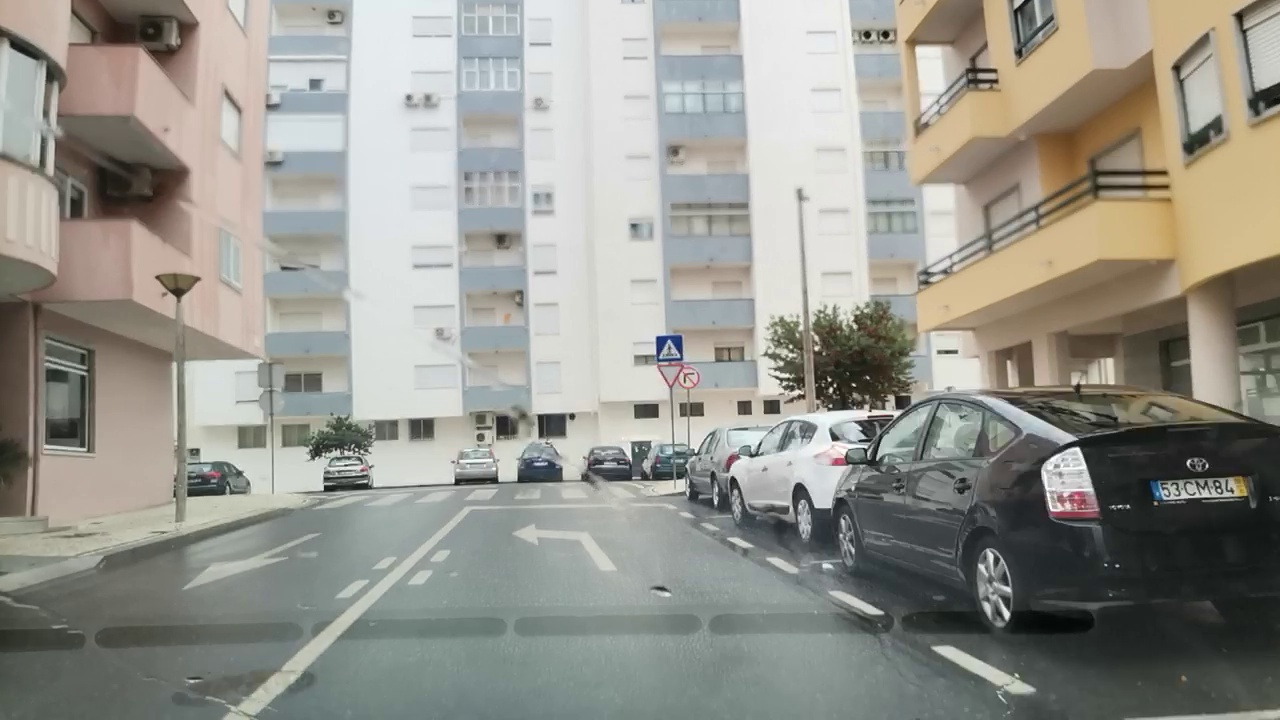Stairs: (314, 486, 643, 510)
